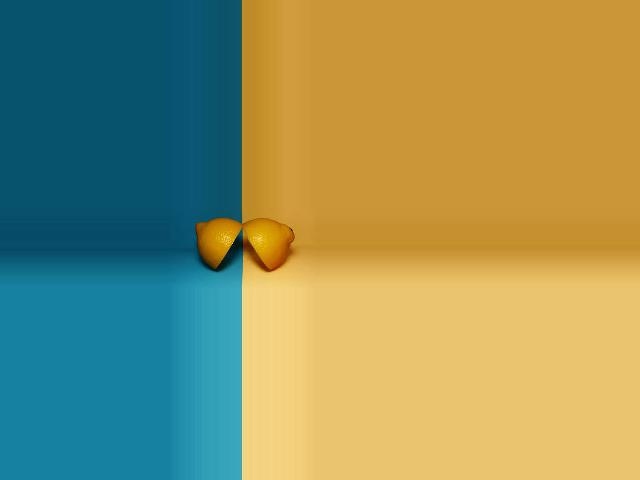lemon: (188, 215, 244, 273)
